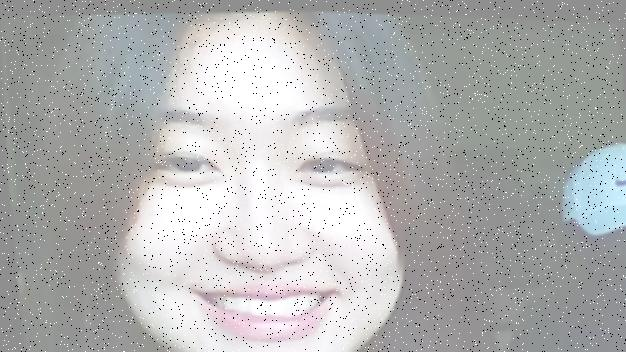eye: (169, 147, 199, 177), (304, 149, 334, 178)
iris: (294, 150, 365, 178), (154, 148, 222, 175)
